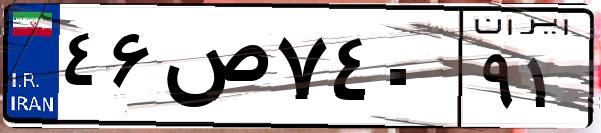0: (385, 28, 445, 110)
1: (525, 38, 570, 115)
4: (330, 28, 385, 110), (57, 26, 110, 100)
6: (110, 28, 158, 98)
7: (270, 28, 330, 110)
9: (475, 38, 525, 113)
ص: (158, 20, 270, 120)
